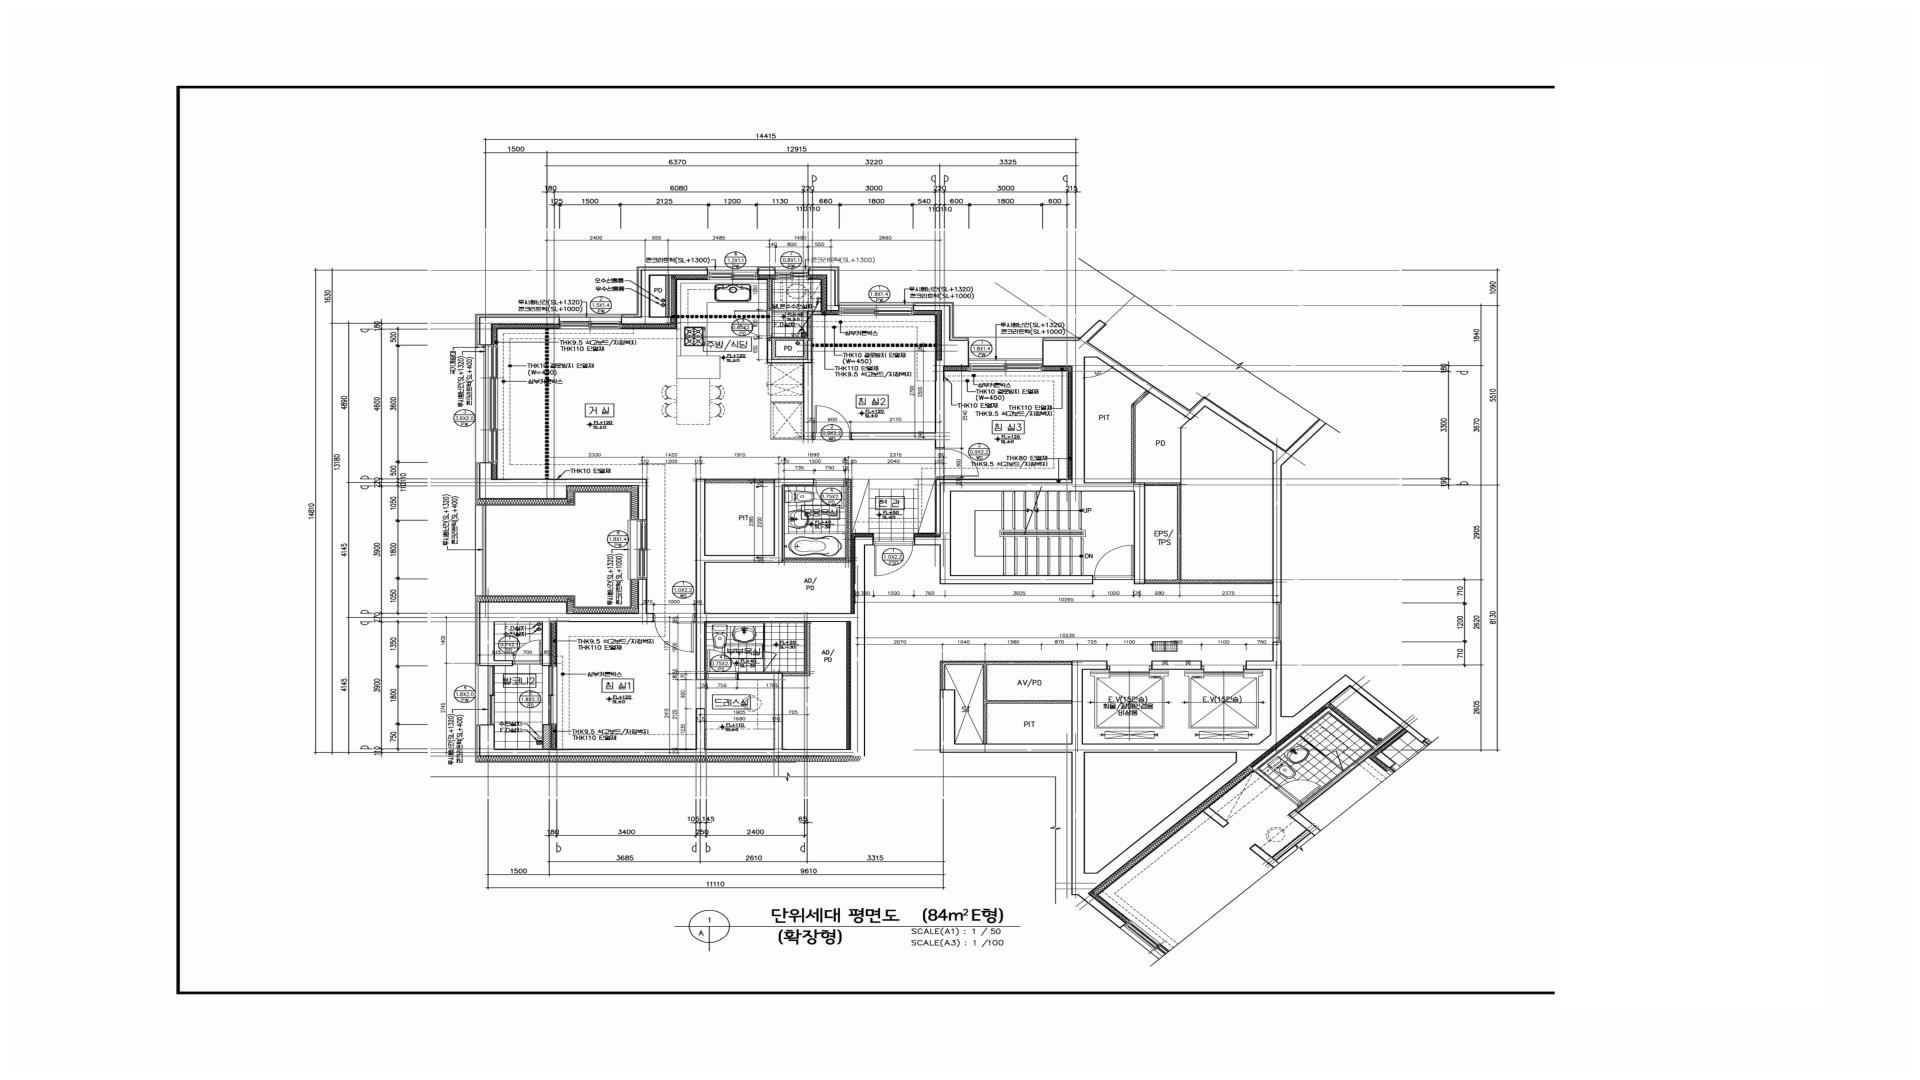door: (654, 613, 696, 653), (873, 541, 914, 576), (1093, 545, 1134, 580), (935, 448, 979, 478), (814, 405, 851, 440), (734, 309, 772, 337), (707, 649, 737, 680), (814, 479, 845, 509), (513, 639, 542, 665), (763, 651, 777, 672)
wall: (940, 642, 1354, 899), (479, 537, 874, 757), (914, 337, 1249, 584), (1085, 753, 1236, 873), (851, 305, 969, 448), (479, 579, 654, 666), (479, 462, 647, 520), (705, 479, 814, 563), (1243, 426, 1292, 603), (935, 478, 1072, 533), (983, 665, 1071, 744), (783, 480, 851, 562), (621, 269, 708, 324), (940, 661, 1072, 690), (1145, 482, 1181, 584), (771, 311, 822, 360), (479, 317, 559, 345), (1131, 390, 1149, 483), (783, 622, 810, 676), (808, 269, 839, 311), (766, 337, 812, 363), (803, 363, 814, 440), (1180, 419, 1191, 482), (696, 479, 705, 555), (775, 341, 804, 358), (1151, 661, 1202, 670), (1181, 580, 1273, 584), (542, 724, 551, 749), (705, 480, 774, 483), (665, 276, 670, 317), (767, 278, 772, 309), (757, 270, 776, 275), (763, 623, 765, 651)
window: (483, 345, 498, 462), (628, 520, 647, 579), (478, 666, 495, 724), (969, 358, 1043, 371), (542, 666, 557, 724), (839, 304, 914, 315), (559, 316, 621, 329), (708, 269, 757, 280), (1273, 603, 1282, 642), (776, 270, 808, 280)
